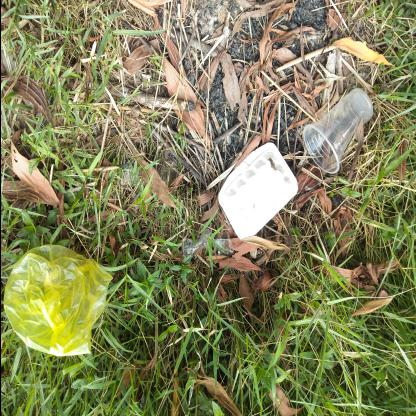kopuk: (217, 141, 297, 240)
plastik: (2, 242, 112, 358), (301, 88, 373, 174)
